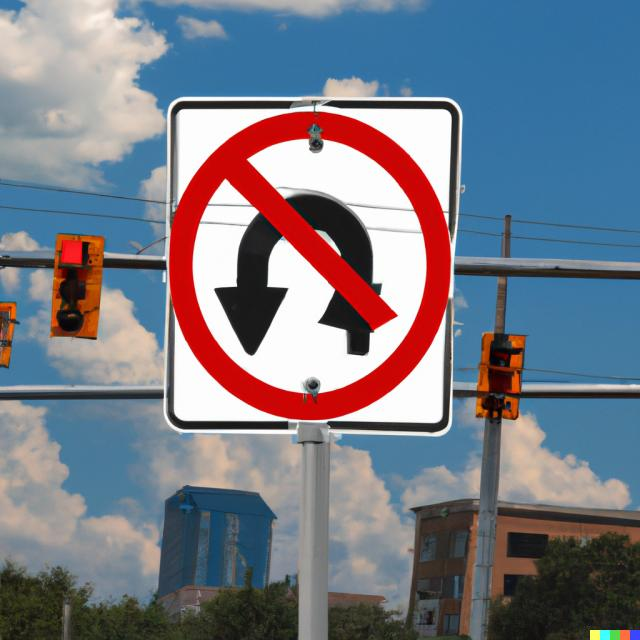no u turn: (166, 103, 459, 420)
